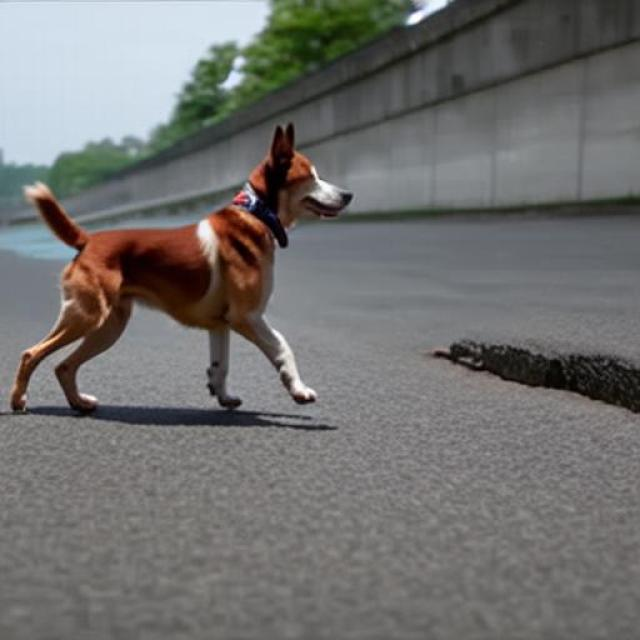Dog: (11, 123, 354, 414)
